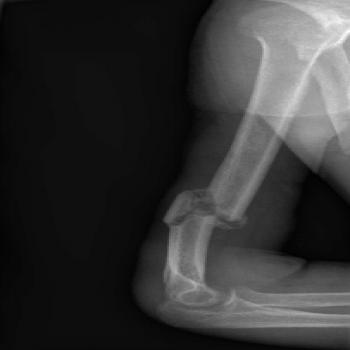Fracture: (147, 186, 259, 238)
